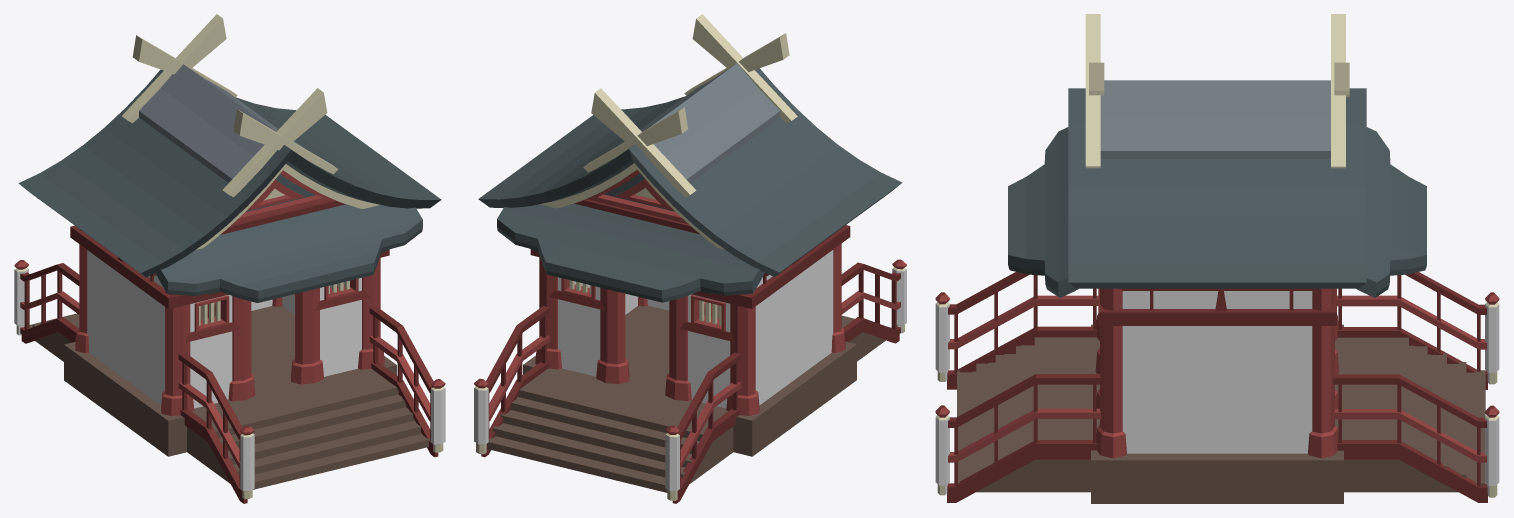
The model's file is entry-building.glb.
3 renders of one model, left to right at view 1: azimuth 30°, elevation 25°; view 2: azimuth 150°, elevation 25°; view 3: azimuth 270°, elevation 25°, orthographic. The views are drawn at different scales.
Visible parts, largest first — view 1: OWnG_frontGateWithWalls_01.001; view 2: OWnG_frontGateWithWalls_01.001; view 3: OWnG_frontGateWithWalls_01.001.
Part boxes in pixels (left/top/right/bottom): OWnG_frontGateWithWalls_01.001: left=14, top=14, right=445, bottom=503; OWnG_frontGateWithWalls_01.001: left=474, top=14, right=906, bottom=503; OWnG_frontGateWithWalls_01.001: left=935, top=14, right=1499, bottom=503.
Size of the model in its own units: 13.19 by 14.05 by 17.64.
